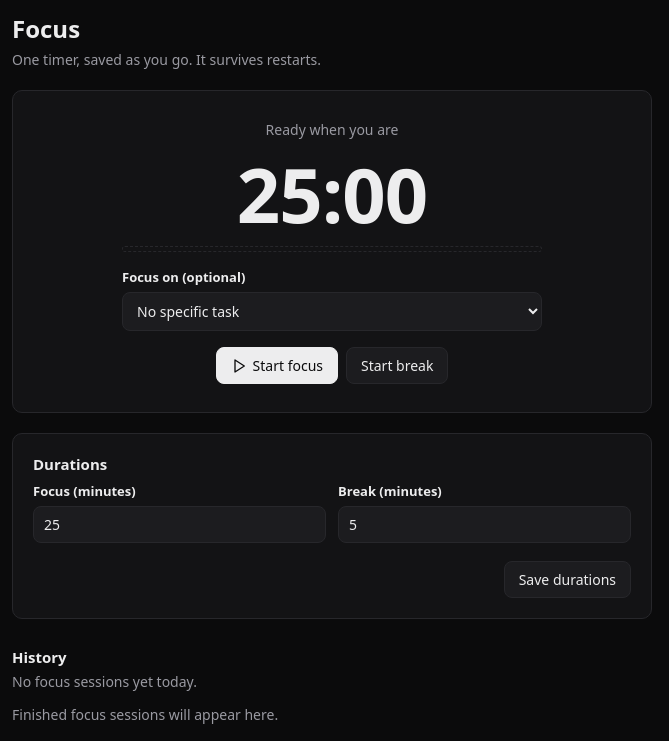
Test: FocusView › starts a focus session on the chosen task
Select "Read optics · Physics" in the dropdown labelled "Focus on (optional)" at (332, 312), box [122,292,542,331]
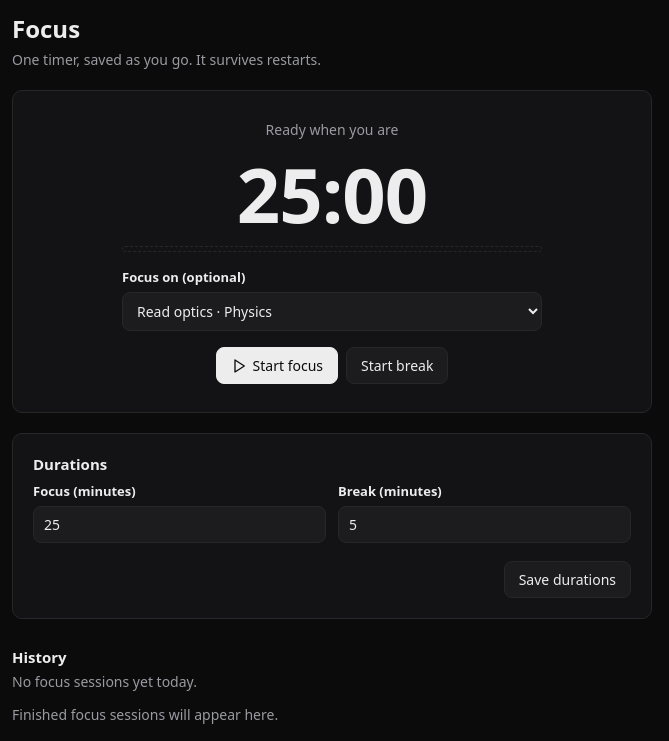
Click the button "Start focus".
click(277, 366)  # box [216,347,338,384]
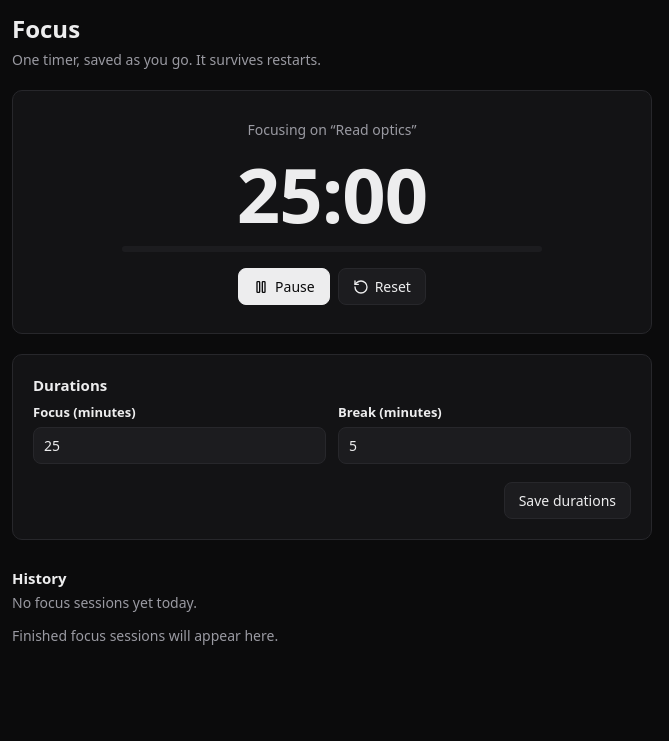
Result: the text "Focusing on “Read optics”" is shown at [248,119,416,140]
Result: the button "Pause" is shown at [238,268,330,305]
